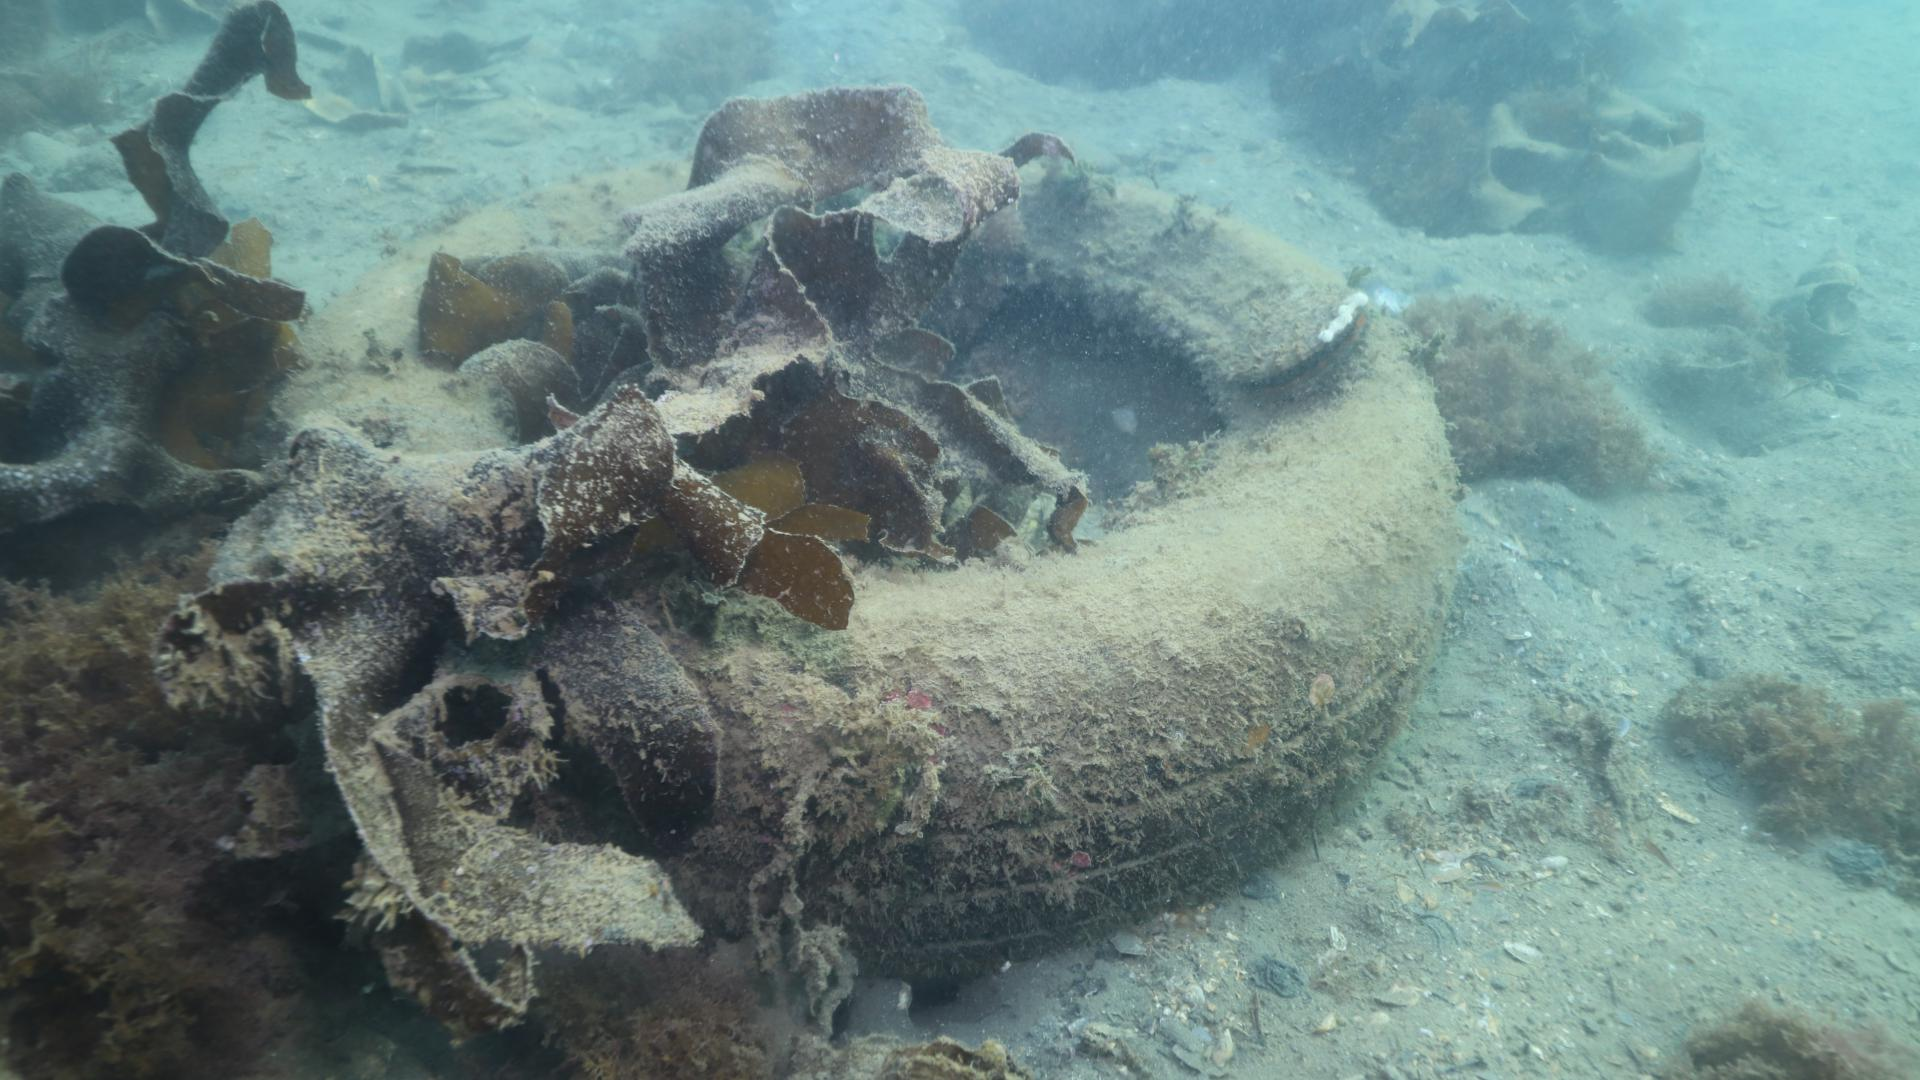tire: (307, 142, 1448, 967)
